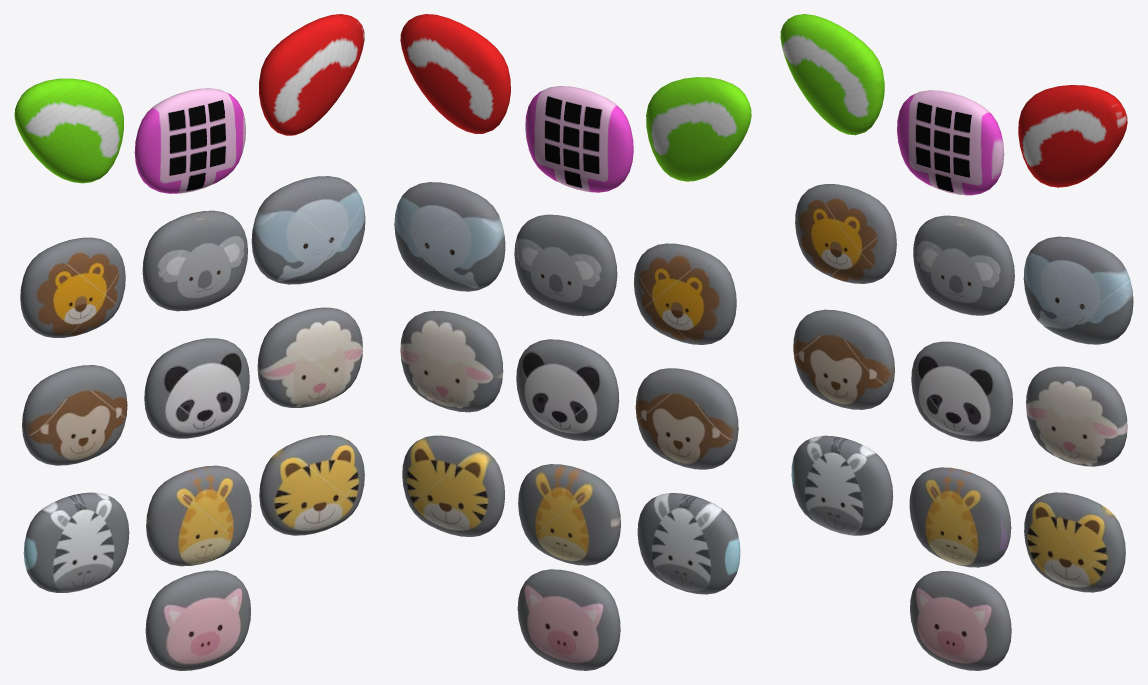
The model's file is MOUSE PHONE 4.fbx.
The picture shows the model from 3 angles, left to right: view 1: azimuth 30°, elevation 25°; view 2: azimuth 150°, elevation 25°; view 3: azimuth 330°, elevation 25°; orthographic projection.
Visible parts, largest first — view 1: Cube.014, Cube.016, Cube.015, Cube.017, Cube.013, Cube.009, Cube.004, Cube.007, Cube.005, Cube.008, Cube.010, Cube.011 (+1 smaller); view 2: Cube.014, Cube.016, Cube.017, Cube.015, Cube.008, Cube.004, Cube.005, Cube.009, Cube.010, Cube.011, Cube.013, Cube.012 (+1 smaller); view 3: Cube.014, Cube.016, Cube.017, Cube.015, Cube.013, Cube.012, Cube.011, Cube.008, Cube.009, Cube.010, Cube.004, Cube.007 (+1 smaller).
Boxes of the visible parts, <box> form: Cube.014: <box>251,176,365,284</box>; Cube.016: <box>134,88,245,193</box>; Cube.015: <box>14,78,123,183</box>; Cube.017: <box>259,14,364,135</box>; Cube.013: <box>259,435,364,535</box>; Cube.009: <box>144,338,249,438</box>; Cube.004: <box>22,365,127,465</box>; Cube.007: <box>20,237,125,337</box>; Cube.005: <box>145,570,250,670</box>; Cube.008: <box>142,210,247,311</box>; Cube.010: <box>257,307,362,407</box>; Cube.011: <box>23,492,129,592</box>; Cube.014: <box>394,182,505,291</box>; Cube.016: <box>525,86,633,192</box>; Cube.017: <box>400,14,510,133</box>; Cube.015: <box>646,77,751,181</box>; Cube.008: <box>514,214,617,316</box>; Cube.004: <box>635,368,738,469</box>; Cube.005: <box>517,569,620,670</box>; Cube.009: <box>516,339,619,440</box>; Cube.010: <box>400,310,503,412</box>; Cube.011: <box>637,493,740,594</box>; Cube.013: <box>402,435,504,536</box>; Cube.012: <box>518,464,620,565</box>; Cube.014: <box>1023,236,1133,344</box>; Cube.016: <box>897,90,1004,195</box>; Cube.017: <box>1018,85,1127,187</box>; Cube.015: <box>780,14,884,135</box>; Cube.013: <box>1024,492,1125,592</box>; Cube.012: <box>909,467,1011,567</box>; Cube.011: <box>791,435,893,535</box>; Cube.008: <box>913,215,1014,315</box>; Cube.009: <box>911,341,1012,441</box>; Cube.010: <box>1026,366,1127,466</box>; Cube.004: <box>793,309,894,409</box>; Cube.007: <box>795,184,896,283</box>.
Size of the model in its own units: 172 by 292 by 21.19.
